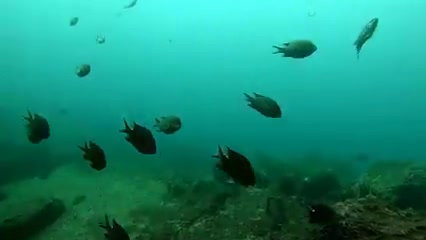mezina: (210, 146, 258, 187), (107, 117, 157, 156), (16, 104, 59, 142), (240, 89, 288, 120), (270, 34, 319, 61), (79, 139, 114, 169)
smallfish: (350, 12, 380, 57), (147, 112, 185, 135)
